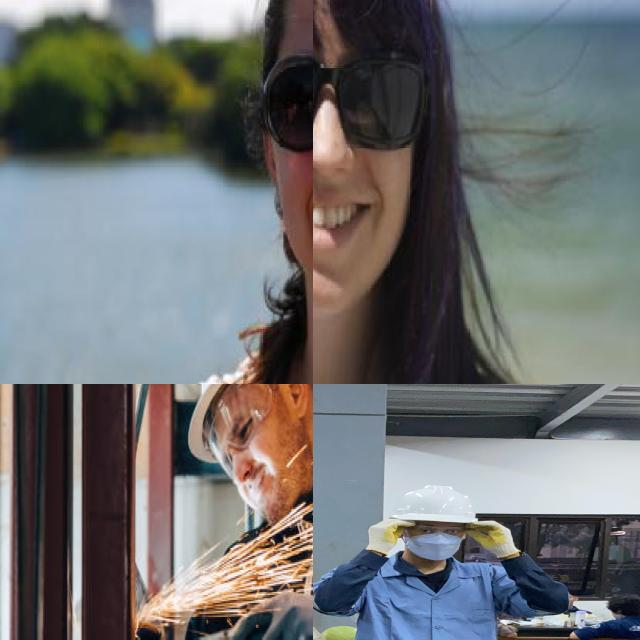No_Ear-Protection: (285, 384, 309, 418)
face_mask: (401, 520, 469, 557)
face_nomask: (313, 32, 410, 258), (232, 391, 310, 524), (269, 51, 313, 254)
glasses: (313, 24, 433, 167), (212, 384, 272, 476), (265, 37, 313, 149), (223, 592, 313, 640), (398, 524, 469, 539)
hand_glove: (458, 517, 522, 555), (362, 517, 419, 552)
head_helmet: (378, 482, 485, 526)
head_nohelmet: (606, 591, 640, 611)
person: (313, 0, 542, 384), (174, 0, 313, 384), (313, 482, 575, 640)
